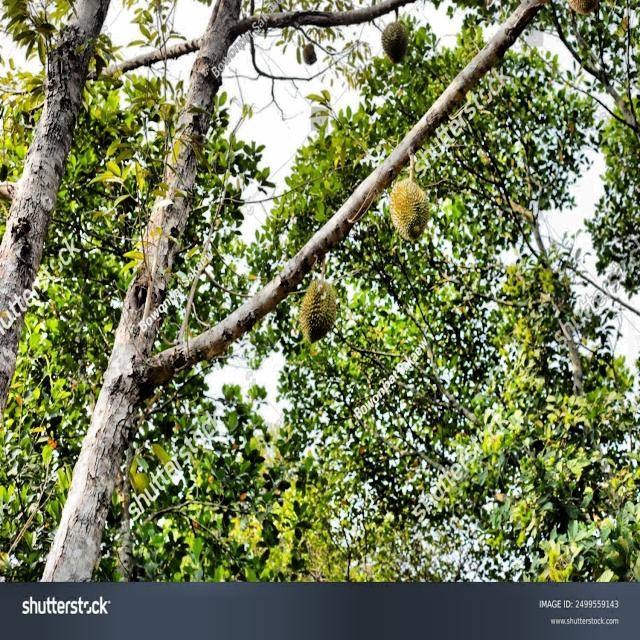arvore: (35, 1, 252, 584), (0, 1, 115, 427)
